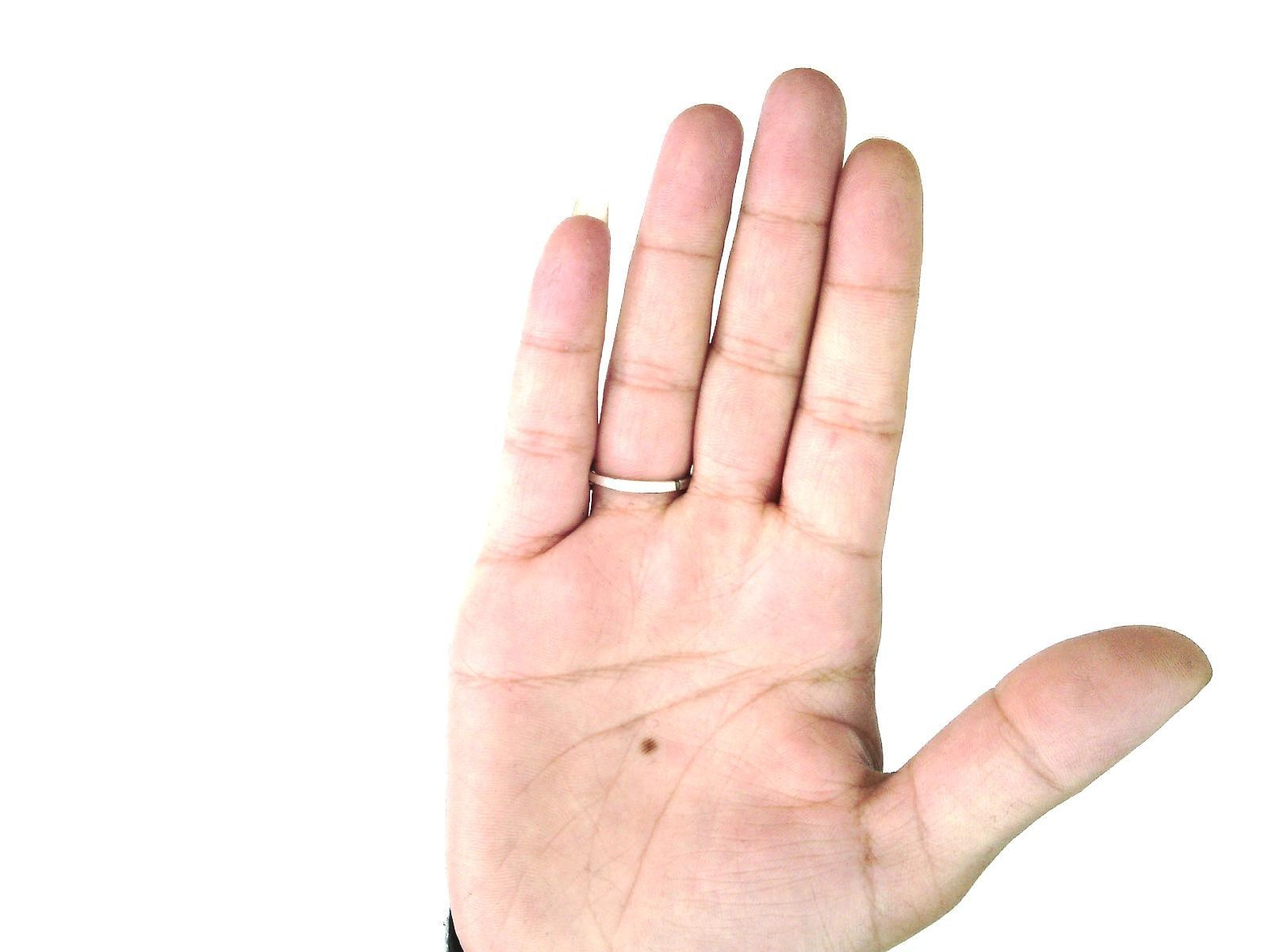open_palm: (440, 66, 1215, 951)
